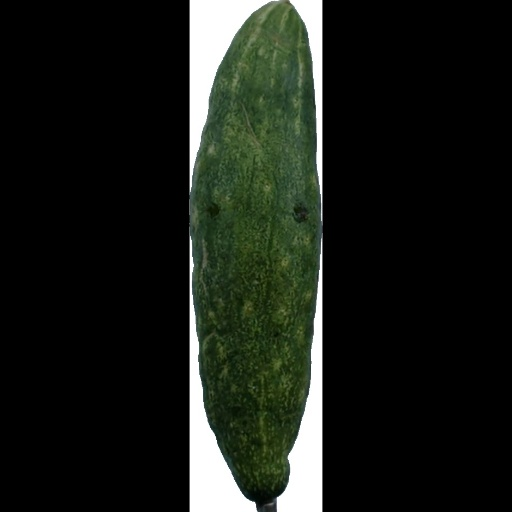concombre: (191, 1, 321, 512)
